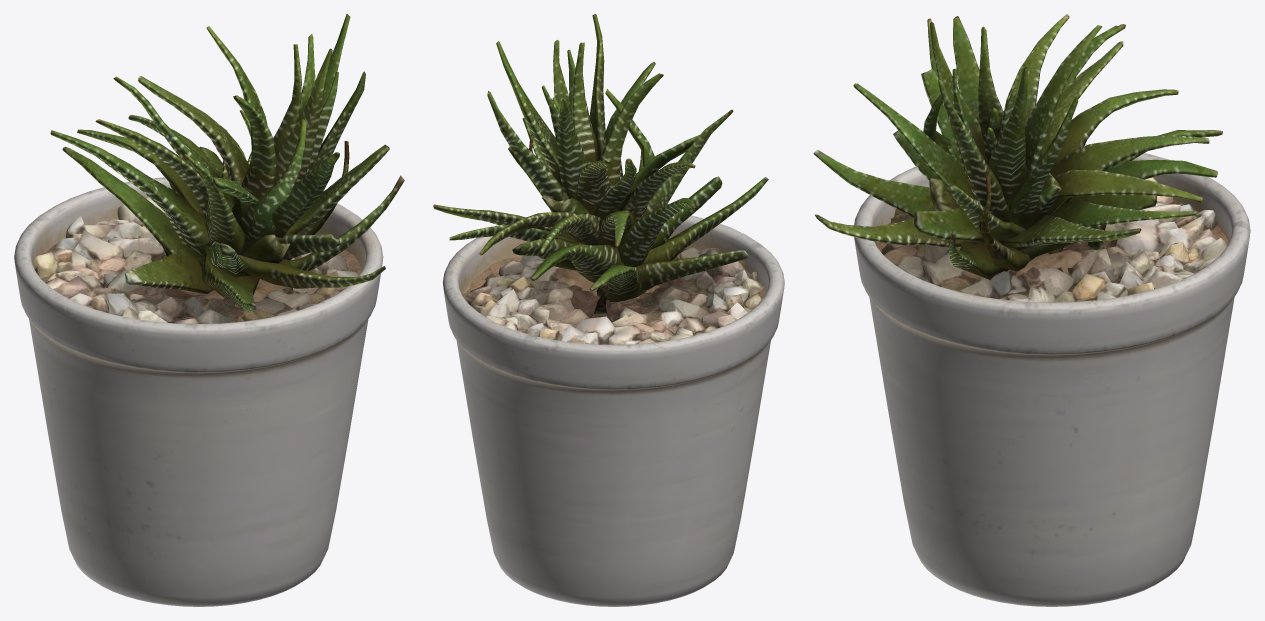
File: potted_plant_04.glb
3 renders of one model, left to right at view 1: azimuth 30°, elevation 25°; view 2: azimuth 150°, elevation 25°; view 3: azimuth 270°, elevation 25°, orthographic. The views are drawn at different scales.
Parts seen in each view (by area): view 1: potted_plant_04_pot, potted_plant_04_plant, potted_plant_04_ground, potted_plant_04_dirt; view 2: potted_plant_04_pot, potted_plant_04_plant, potted_plant_04_ground, potted_plant_04_dirt; view 3: potted_plant_04_pot, potted_plant_04_plant, potted_plant_04_ground, potted_plant_04_dirt.
Boxes of the visible parts, x1,y1,x2,y2 form: potted_plant_04_pot: [14, 177, 383, 606]; potted_plant_04_plant: [50, 14, 404, 311]; potted_plant_04_ground: [34, 196, 357, 323]; potted_plant_04_dirt: [34, 238, 362, 307]; potted_plant_04_pot: [442, 215, 784, 606]; potted_plant_04_plant: [433, 14, 768, 314]; potted_plant_04_ground: [463, 247, 765, 344]; potted_plant_04_dirt: [462, 247, 765, 306]; potted_plant_04_pot: [854, 144, 1250, 606]; potted_plant_04_plant: [813, 14, 1222, 279]; potted_plant_04_ground: [881, 177, 1227, 302]; potted_plant_04_dirt: [875, 200, 1228, 297].
Size of the model in its own units: 0.1679 by 0.2675 by 0.1848.
Materials: 1 (1 with a texture image).
